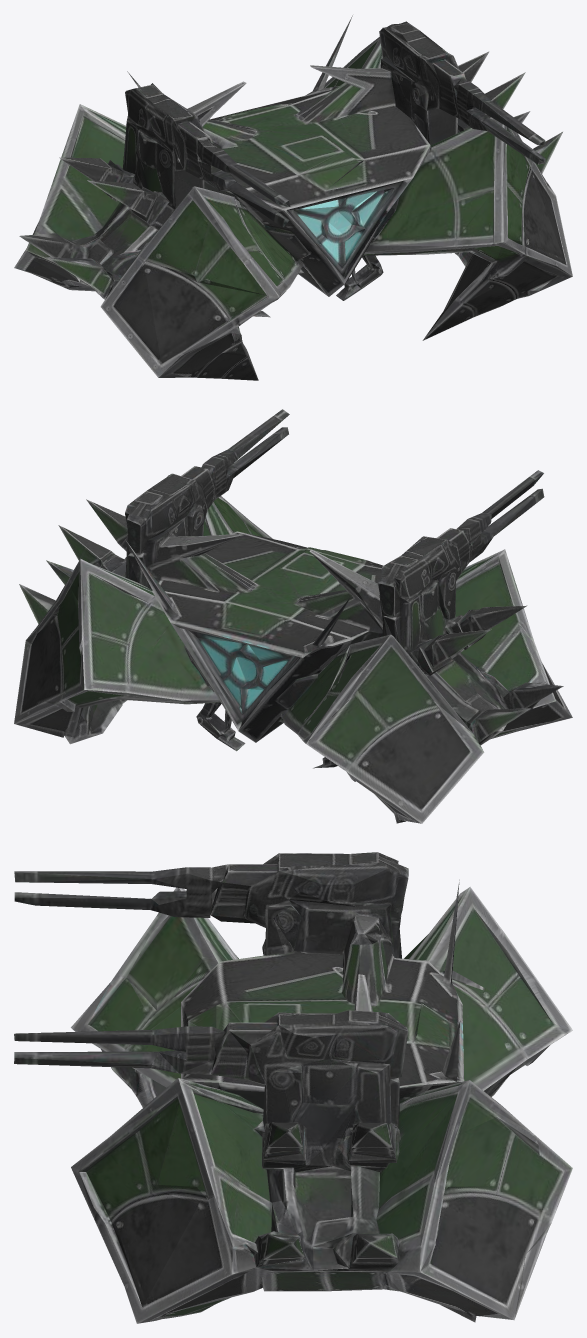
The model's file is Boss3-v2.glb.
3 views of the same model, one above another, from view 1: azimuth 30°, elevation 25°; view 2: azimuth 150°, elevation 25°; view 3: azimuth 270°, elevation 25° (orthographic). The views are drawn at different scales.
Visible parts, largest first — view 1: output_unwrapped; view 2: output_unwrapped; view 3: output_unwrapped.
Part boxes in pixels (x1,y1,x2,y2): output_unwrapped: (14,15,572,380); output_unwrapped: (14,409,572,823); output_unwrapped: (14,852,572,1323).
Size of the model in its own units: 1.9 by 0.8938 by 1.39.
Materials: 1 (1 with a texture image).
